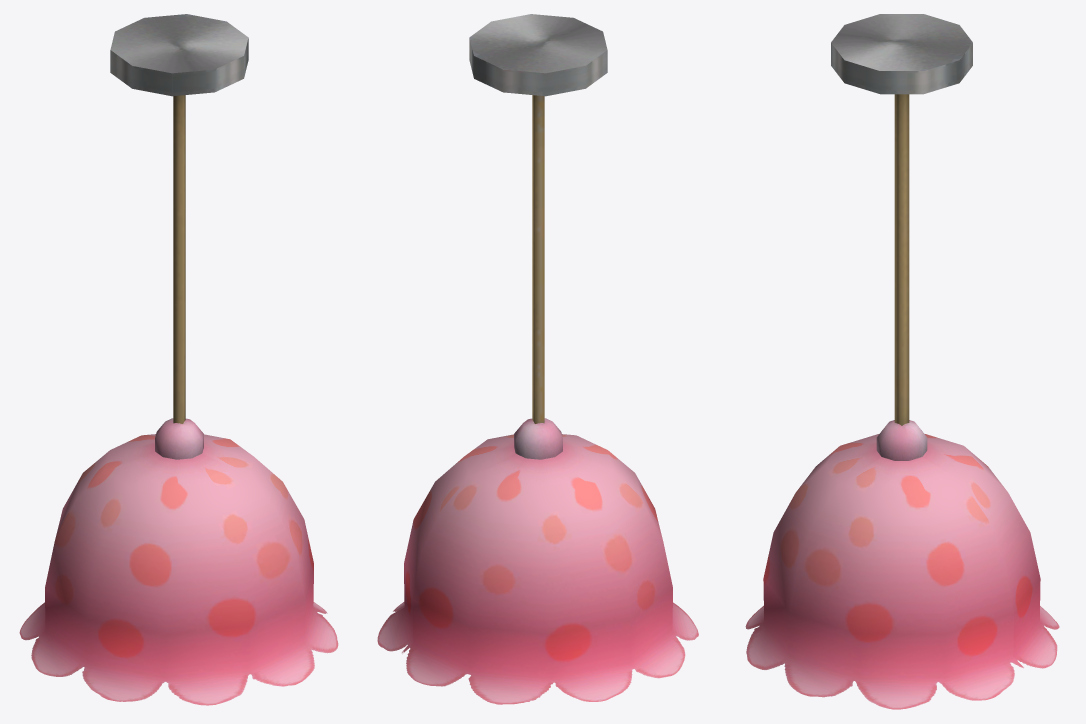
The model's file is furni_0200133.FBX.
3 renders of one model, left to right at view 1: azimuth 30°, elevation 25°; view 2: azimuth 150°, elevation 25°; view 3: azimuth 270°, elevation 25°, orthographic.
Visible parts, largest first — view 1: furni_0200133; view 2: furni_0200133; view 3: furni_0200133.
Part boxes in pixels (box(x1,y1,x2,y2)): furni_0200133: box(19, 14, 338, 705); furni_0200133: box(377, 14, 698, 704); furni_0200133: box(745, 14, 1059, 709).
Bounding box in the file's own units: 38.2 × 78.17 × 40.17.
Materials: 1 (1 with a texture image).
